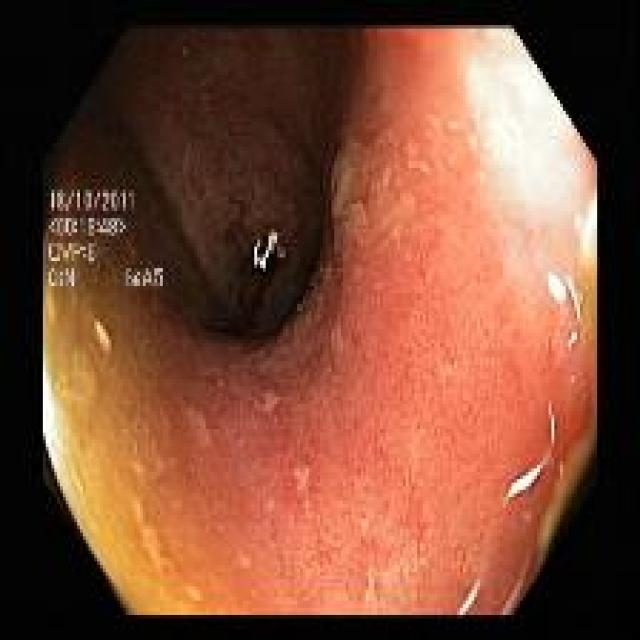ulcerative-colitis: (46, 30, 595, 614)
